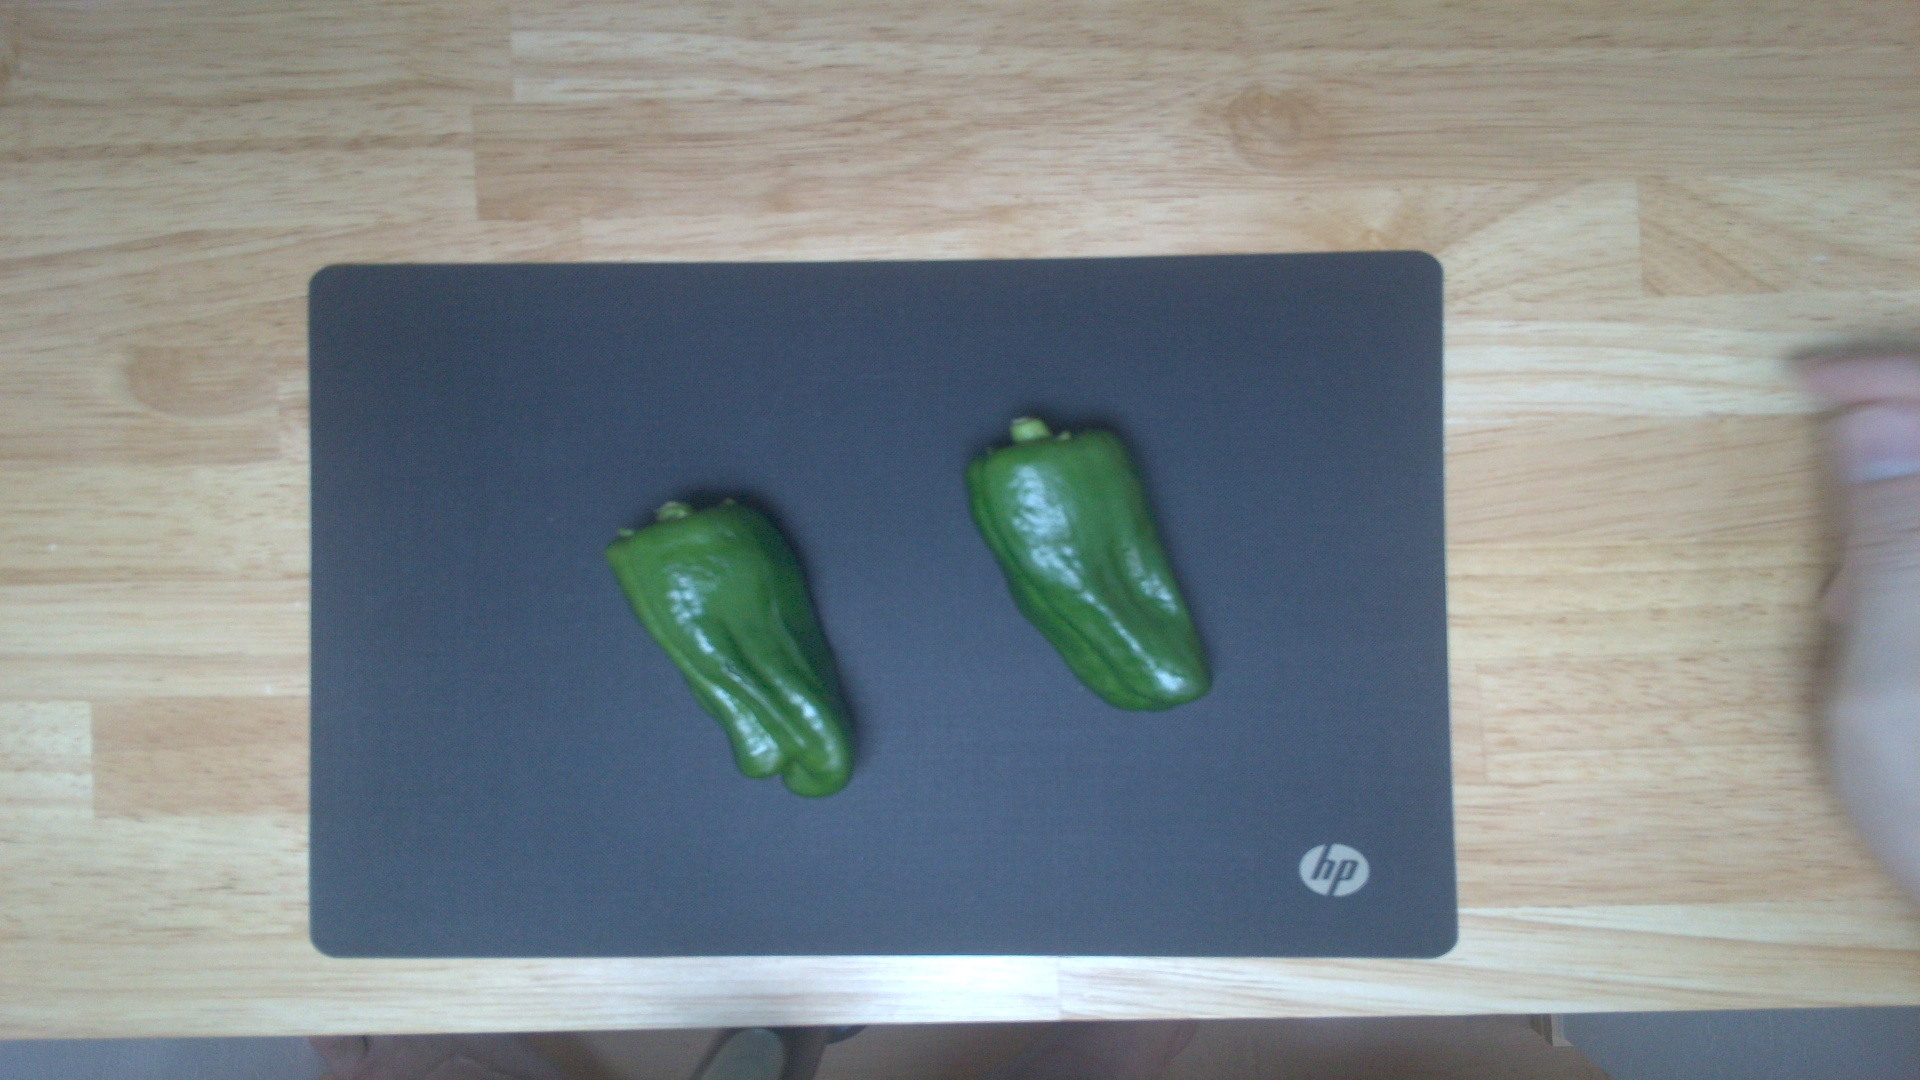Piman: (611, 485, 866, 800), (960, 409, 1217, 715)
